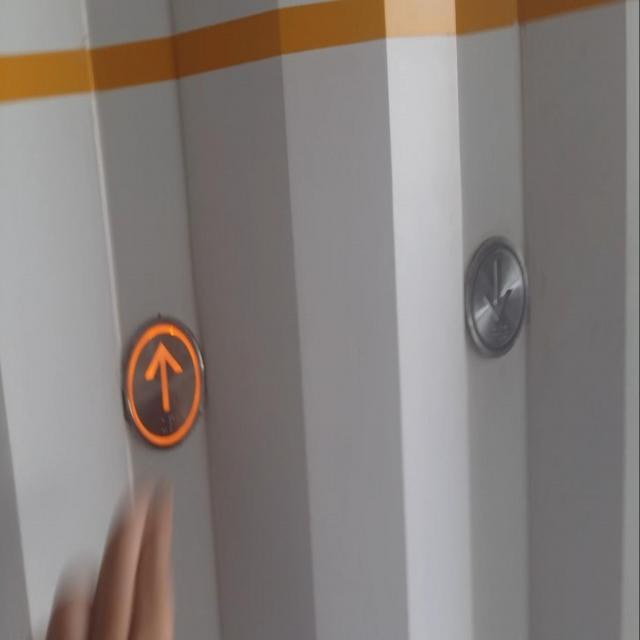down: (464, 234, 528, 357)
up: (120, 318, 204, 450)
